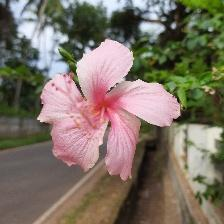hibiscus: (37, 38, 182, 182)
